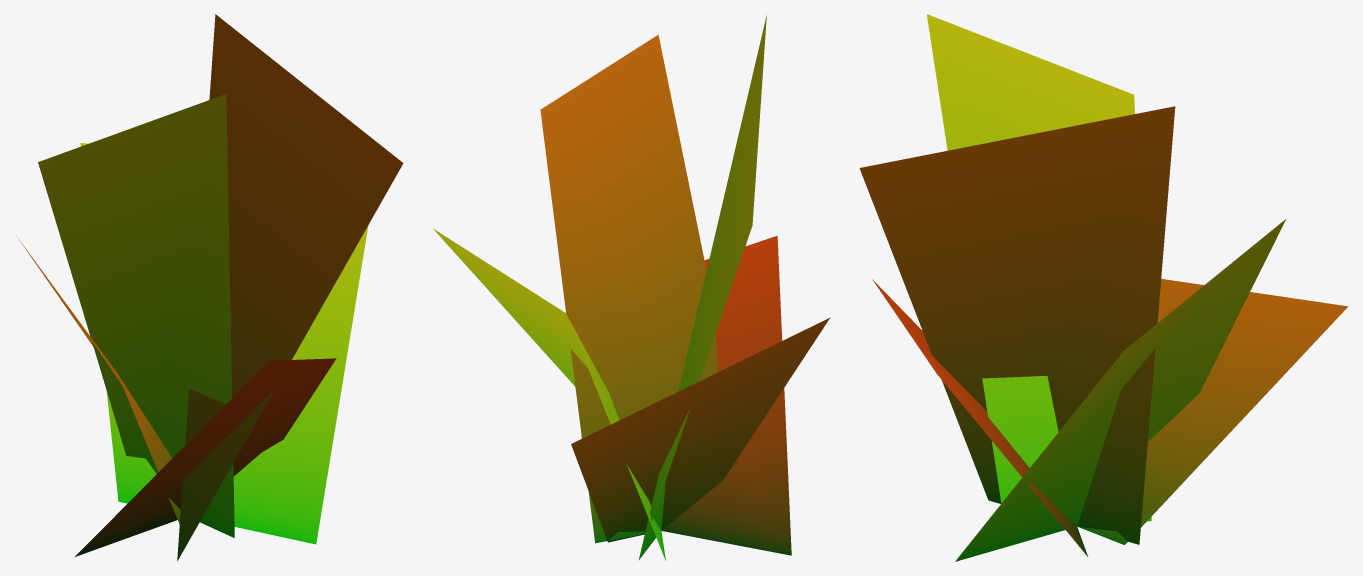
File: Ocean Seaweed_LOD2_Var1_sdDgS.fbx
3 renders of one model, left to right at view 1: azimuth 30°, elevation 25°; view 2: azimuth 150°, elevation 25°; view 3: azimuth 270°, elevation 25°, orthographic. The views are drawn at different scales.
Parts seen in each view (by area): view 1: _68r5_Var1_LOD2; view 2: _68r5_Var1_LOD2; view 3: _68r5_Var1_LOD2.
Part boxes in pixels (x1,y1,x2,y2): _68r5_Var1_LOD2: (16, 14, 403, 561); _68r5_Var1_LOD2: (432, 14, 830, 560); _68r5_Var1_LOD2: (859, 14, 1348, 561).
Size of the model in its own units: 34.85 by 48.41 by 43.05.
